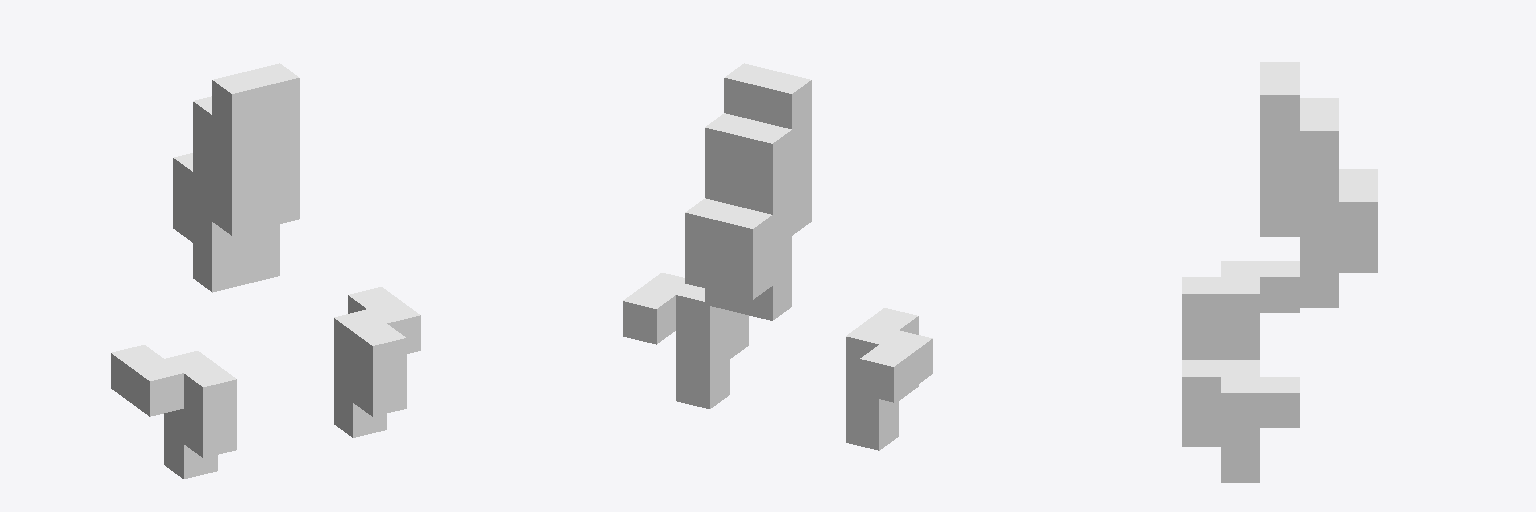
The model's file is goldeen-6.obj.
The picture shows the model from 3 angles: view 1: azimuth 30°, elevation 25°; view 2: azimuth 150°, elevation 25°; view 3: azimuth 270°, elevation 25°; orthographic projection.
Parts seen in each view (by area): view 1: object 1; view 2: object 1; view 3: object 1.
Boxes of the visible parts, x1,y1,x2,y2 form: object 1: [111, 63, 420, 478]; object 1: [623, 63, 932, 450]; object 1: [1182, 62, 1377, 482].
Size of the model in its own units: 0.8 by 1 by 0.5.